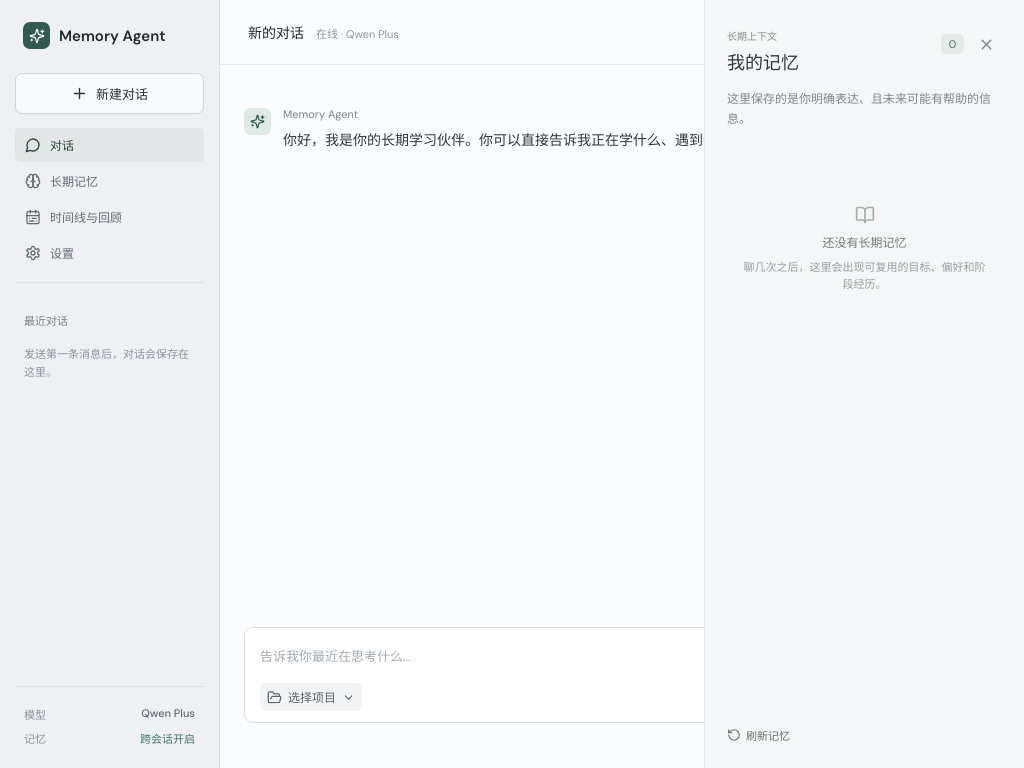
Test case: ignores a review failure from the project that was left
Click the button "时间线与回顾" at (110, 217), box [15,200,204,234]
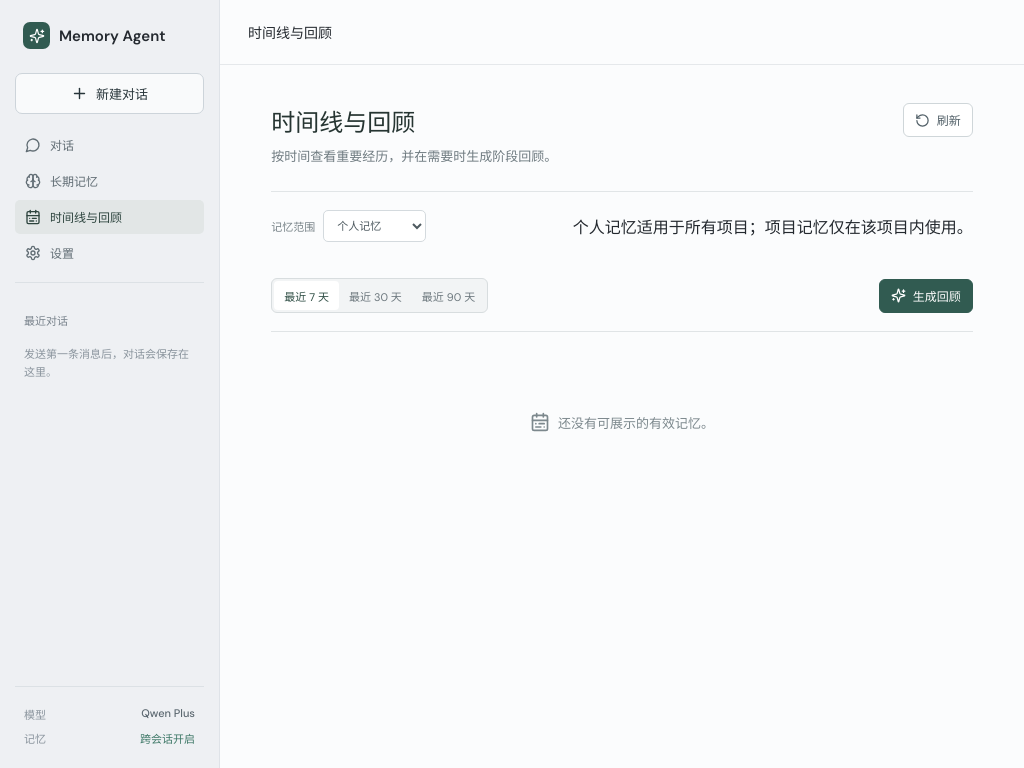
Expected: the button "生成回顾" is shown
Click the button "生成回顾" at (926, 296), box [879,279,973,313]
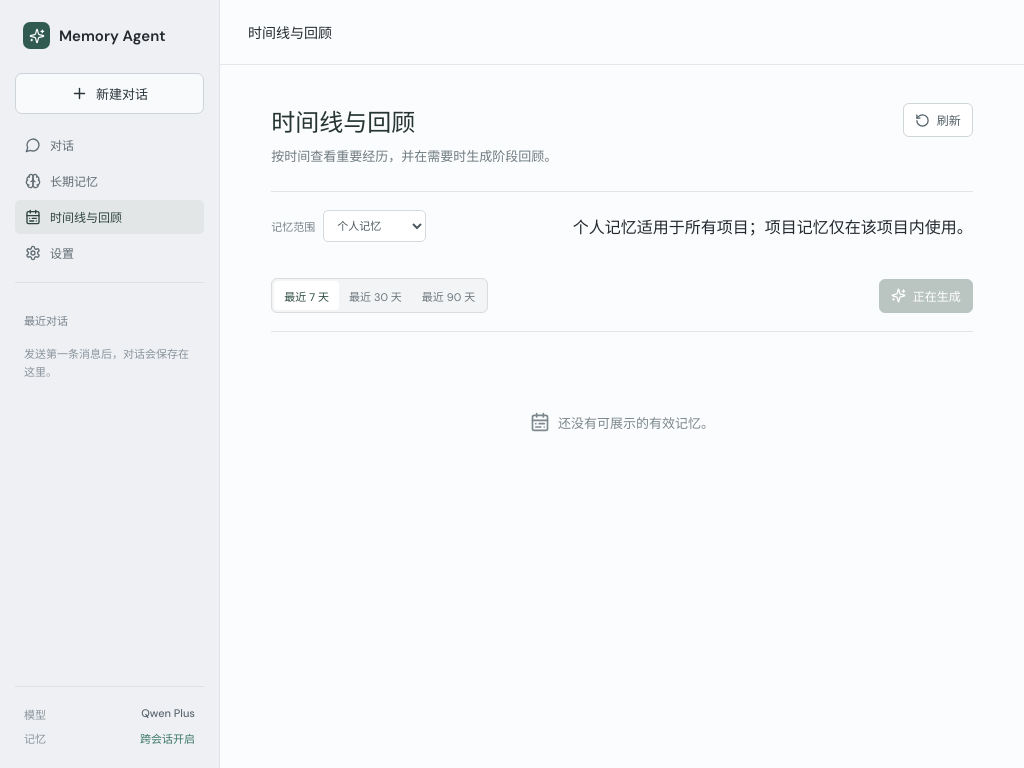
Select "demo" in the dropdown labelled "记忆范围" at (375, 226), box [323,210,426,242]
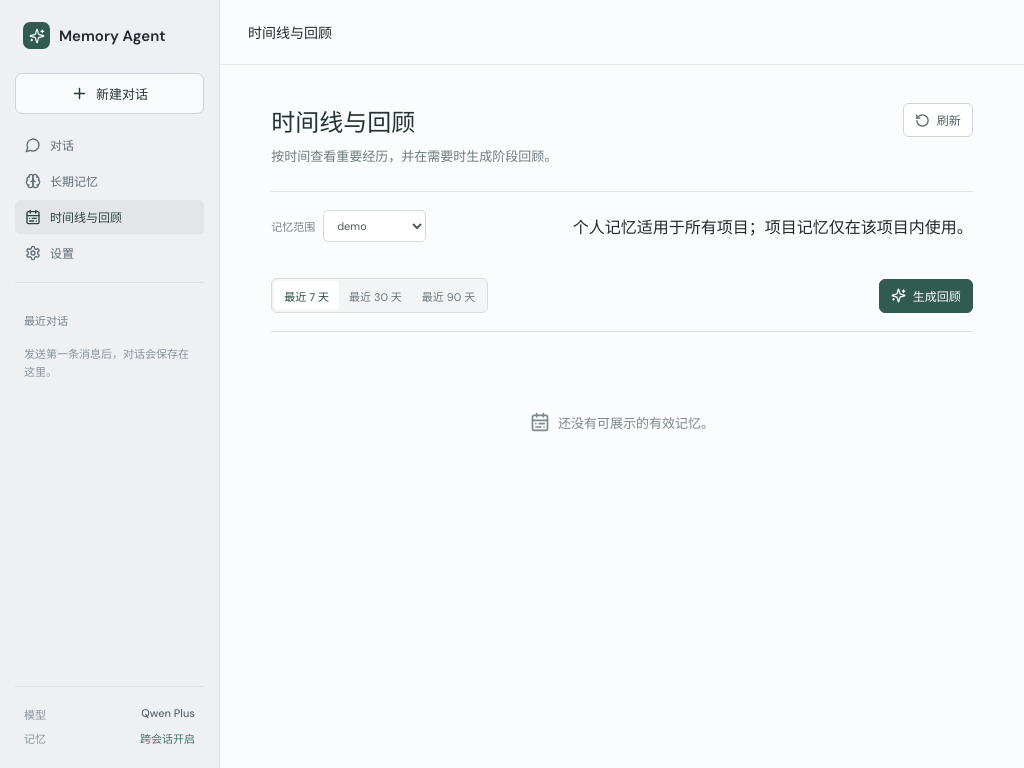
Expected: the button "生成回顾" is enabled, [879,279,973,313]
